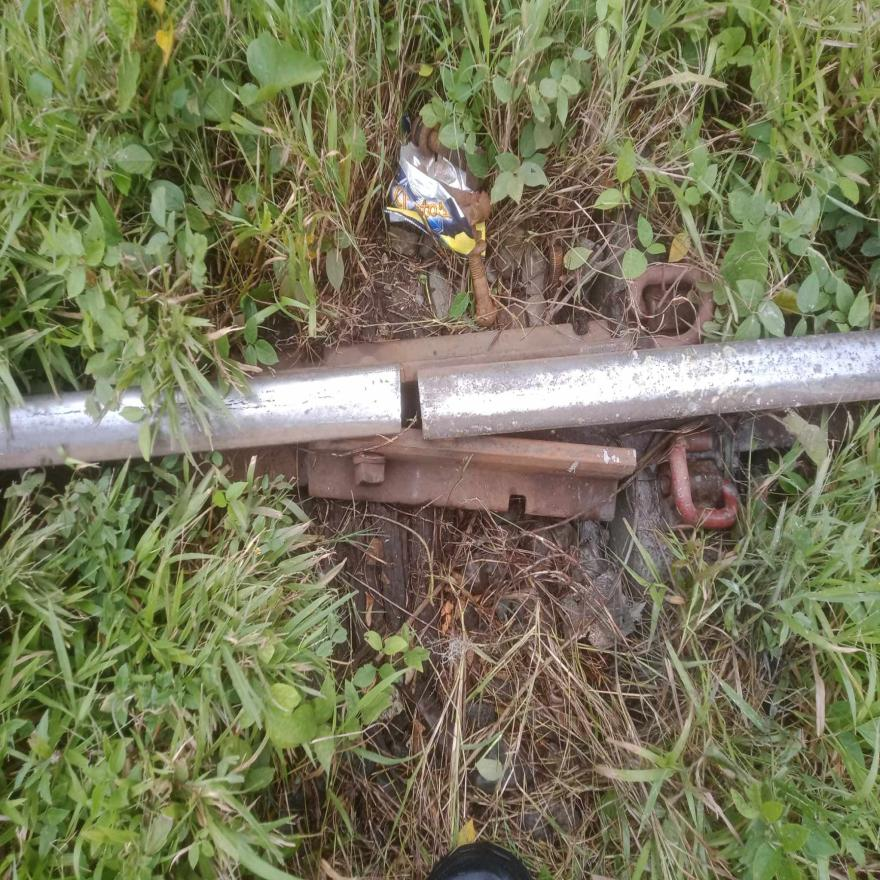railway-gap: (350, 328, 465, 480)
